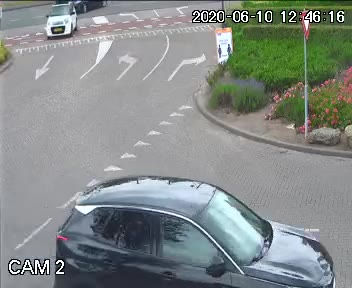car: (41, 173, 352, 288), (40, 2, 77, 47)
